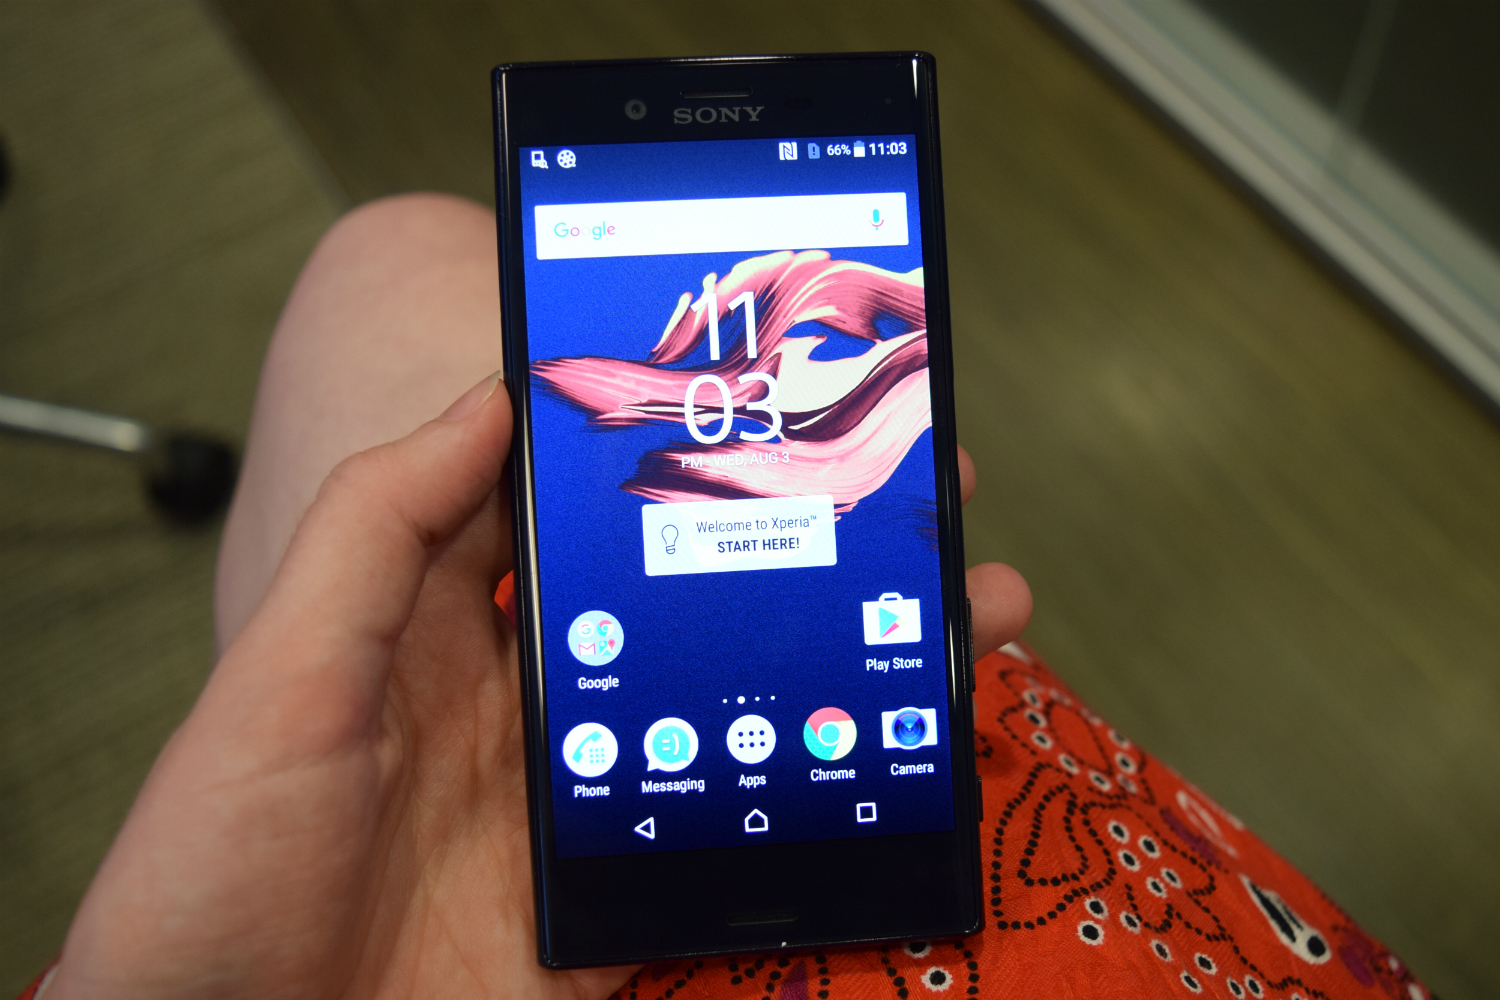smartphone: (492, 51, 985, 970)
